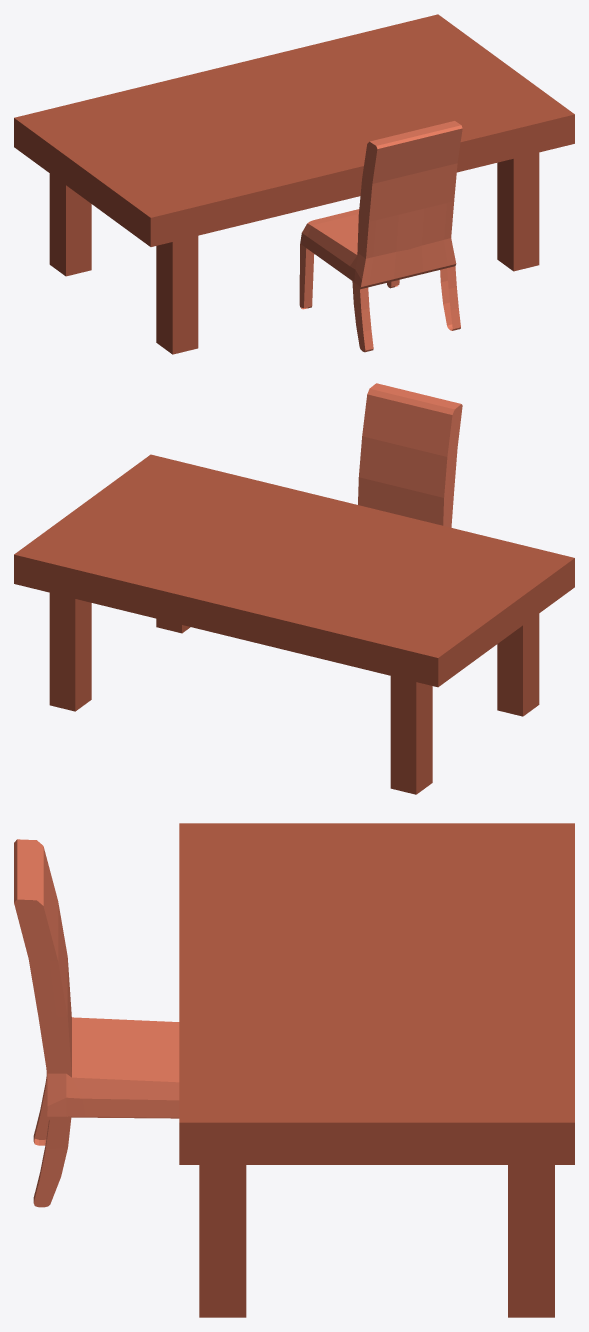
The model's file is ChairTableFloorV0.1.fbx.
3 renders of one model, top to bottom at view 1: azimuth 30°, elevation 25°; view 2: azimuth 150°, elevation 25°; view 3: azimuth 270°, elevation 25°, orthographic. The views are drawn at different scales.
Visible parts, largest first — view 1: Table, Chair; view 2: Table, Chair; view 3: Table, Chair.
Boxes of the visible parts, x1,y1,x2,y2 form: Table: [14, 14, 574, 354]; Chair: [299, 121, 462, 352]; Table: [14, 454, 574, 794]; Chair: [358, 383, 462, 527]; Table: [179, 823, 574, 1317]; Chair: [14, 839, 179, 1207].
Bounding box in the file's own units: 498 × 247 × 395.
